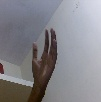hand: (30, 27, 59, 88)
